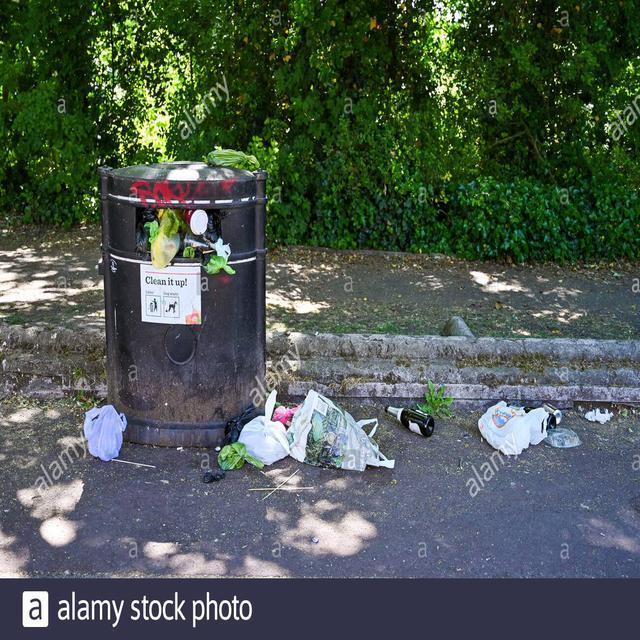garbage: (192, 390, 398, 494), (136, 209, 236, 277), (471, 394, 575, 453), (72, 400, 141, 465), (378, 401, 441, 436), (197, 147, 259, 174)
